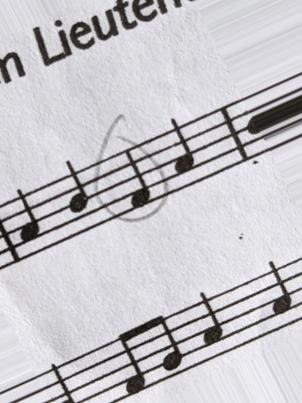A: (167, 114, 199, 190), (266, 254, 298, 330), (196, 284, 228, 357), (11, 186, 46, 250)
B: (63, 156, 92, 235)
F: (122, 144, 155, 215)
